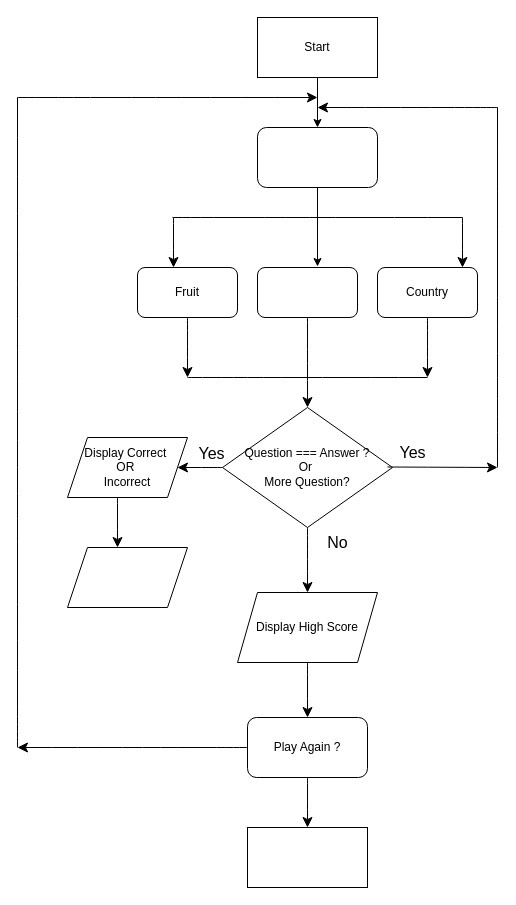
Image size: 516x905. Some labels were removed from this diagram. The box of each missing label's shape, as (x1, y1, x2, y2) in pixels:
Animal: (256, 266, 358, 318)
Display Score: (66, 546, 188, 608)
Game Over: (246, 826, 368, 888)
Select Category: (256, 126, 378, 188)
